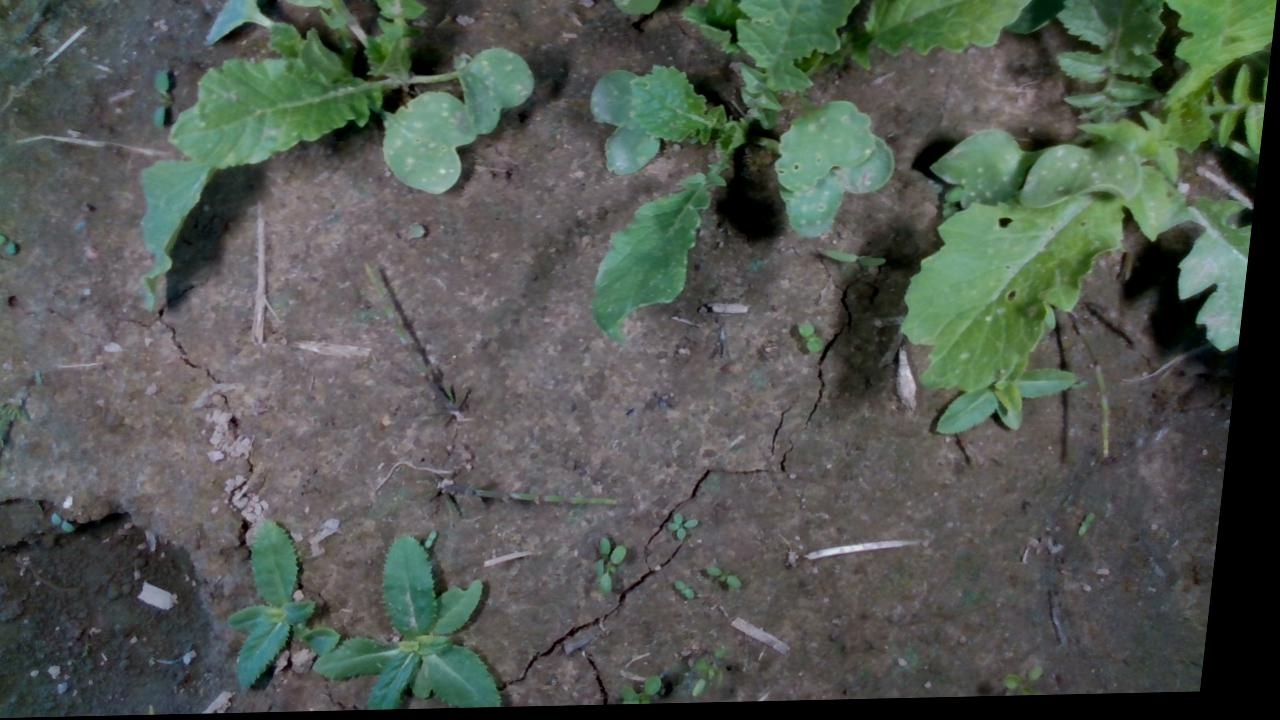weed: (149, 68, 174, 133), (714, 564, 757, 594), (801, 322, 835, 356), (675, 515, 712, 543), (60, 512, 88, 534), (685, 581, 710, 603), (1088, 516, 1107, 542)
